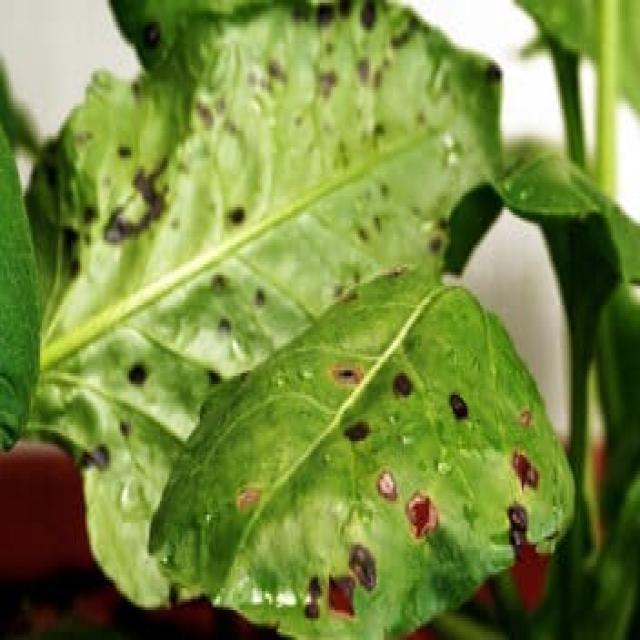Bacterial Spot: (295, 358, 538, 634), (98, 194, 280, 436)
